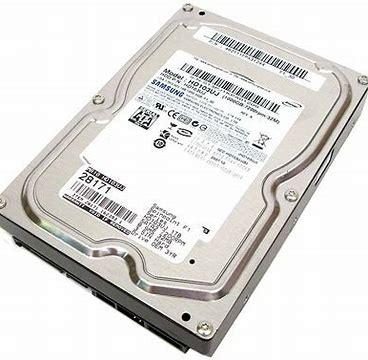internal HDD: (0, 4, 368, 358)
